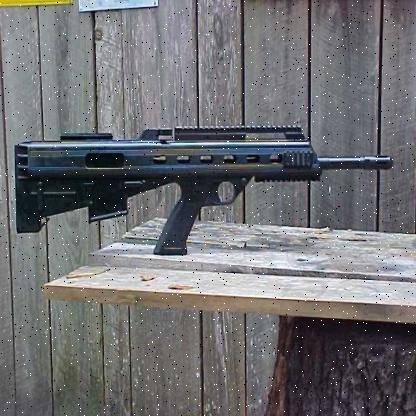rifle: (6, 115, 395, 276)
